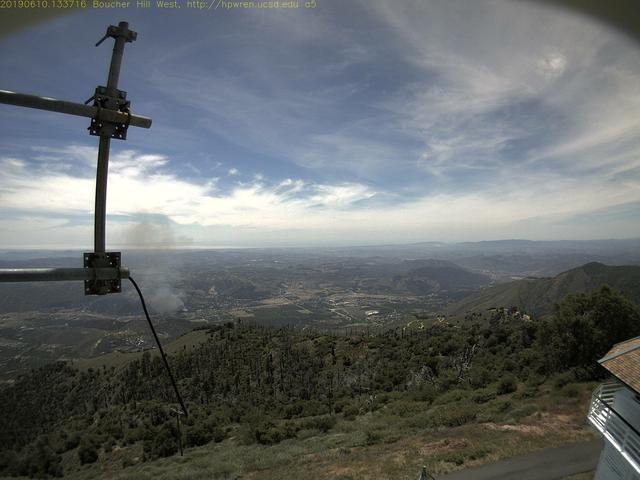smoke: (111, 209, 186, 332)
